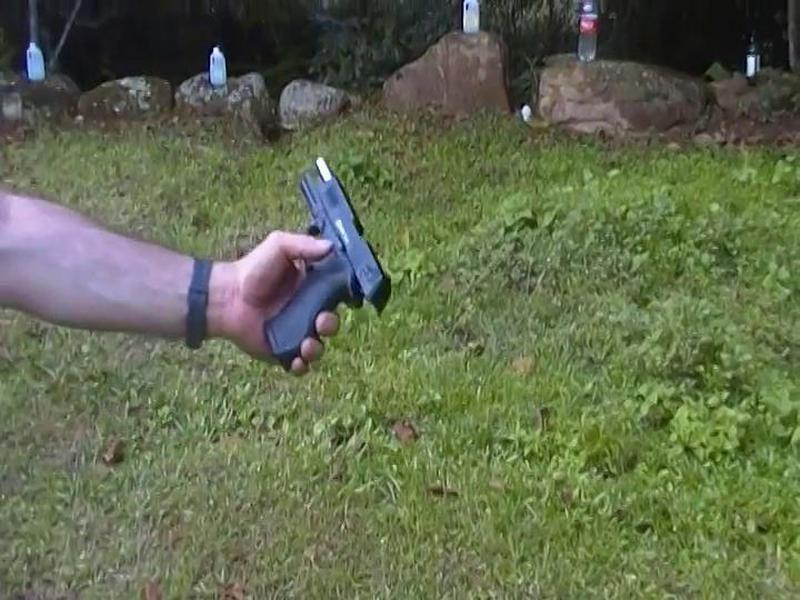Pistola: (243, 153, 413, 375)
